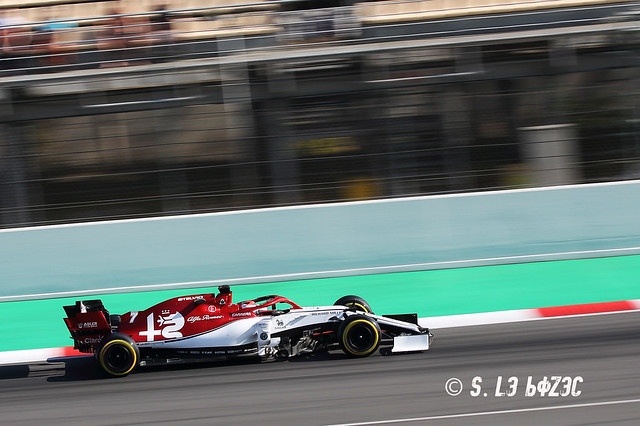F1 Car: (61, 279, 437, 374)
